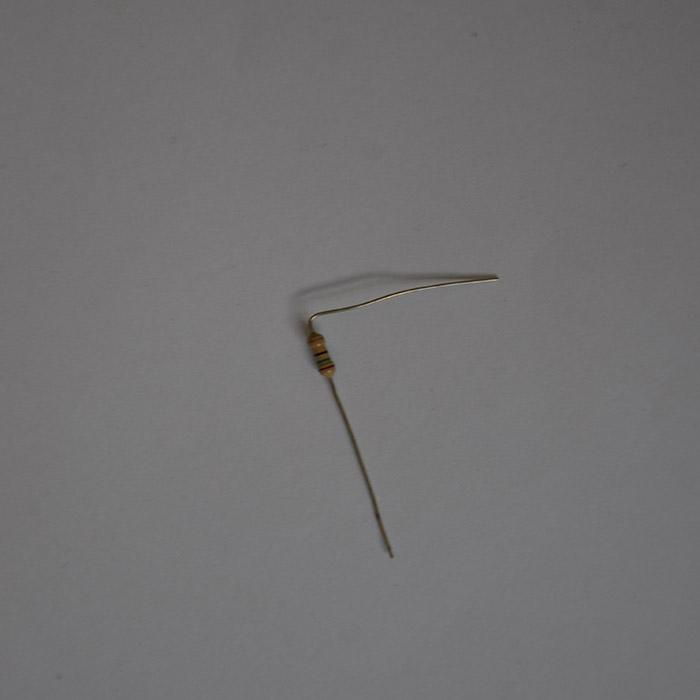resistor: (305, 328, 334, 380)
